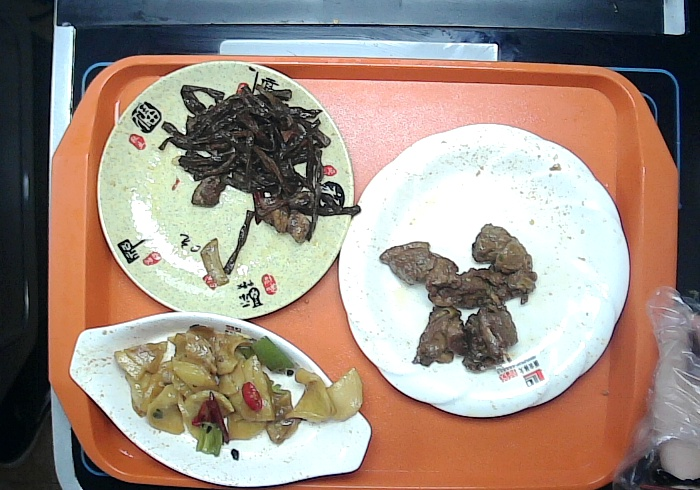NLDX-Bai_Zhe_Yuan_Pan: (335, 119, 634, 421)
NLDX-Fu_Zi_Yuan_Pan: (93, 57, 357, 326)
NLDX-Yu_Pan: (66, 306, 374, 487)
